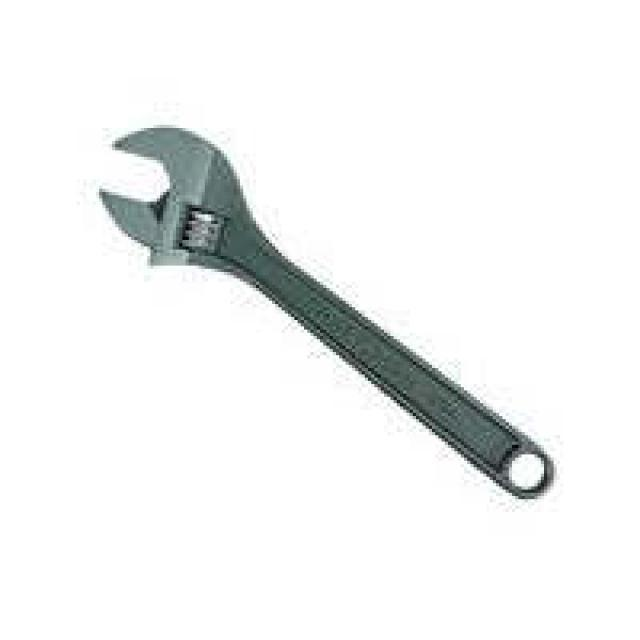wrench: (91, 117, 564, 507)
